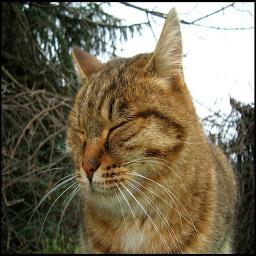catnose: (81, 160, 97, 182)
